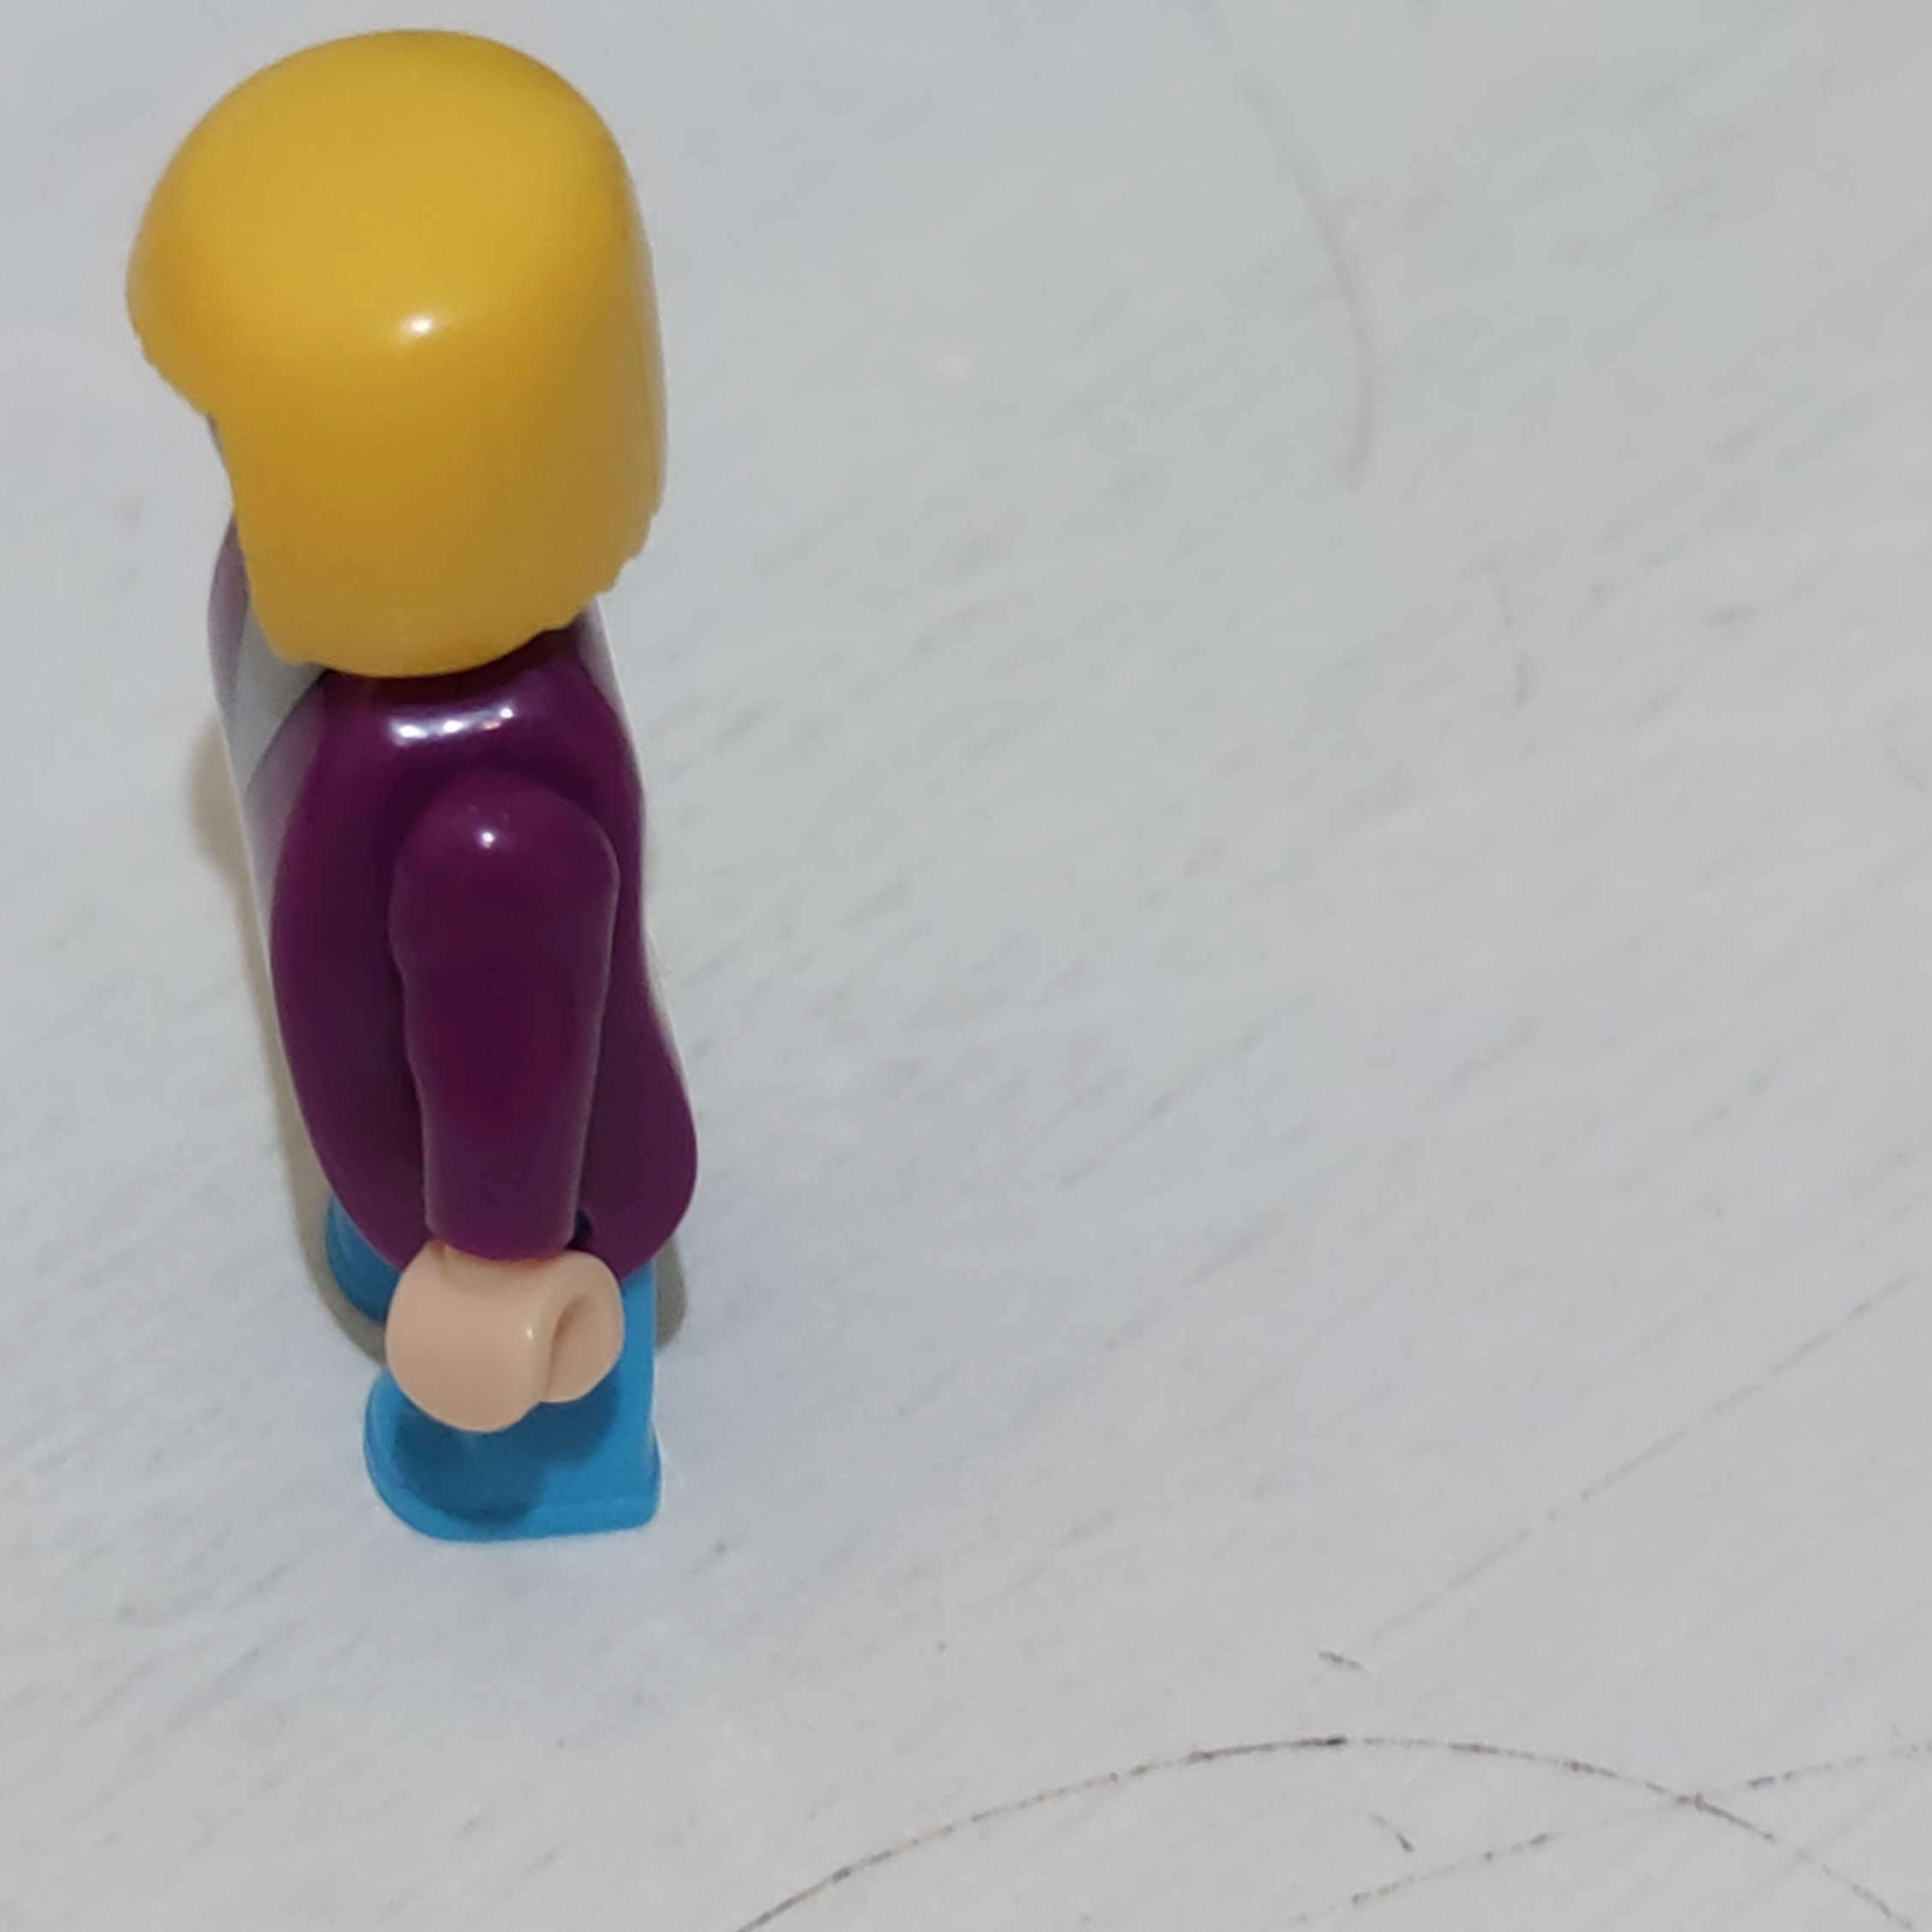lego: (127, 28, 697, 1546)
